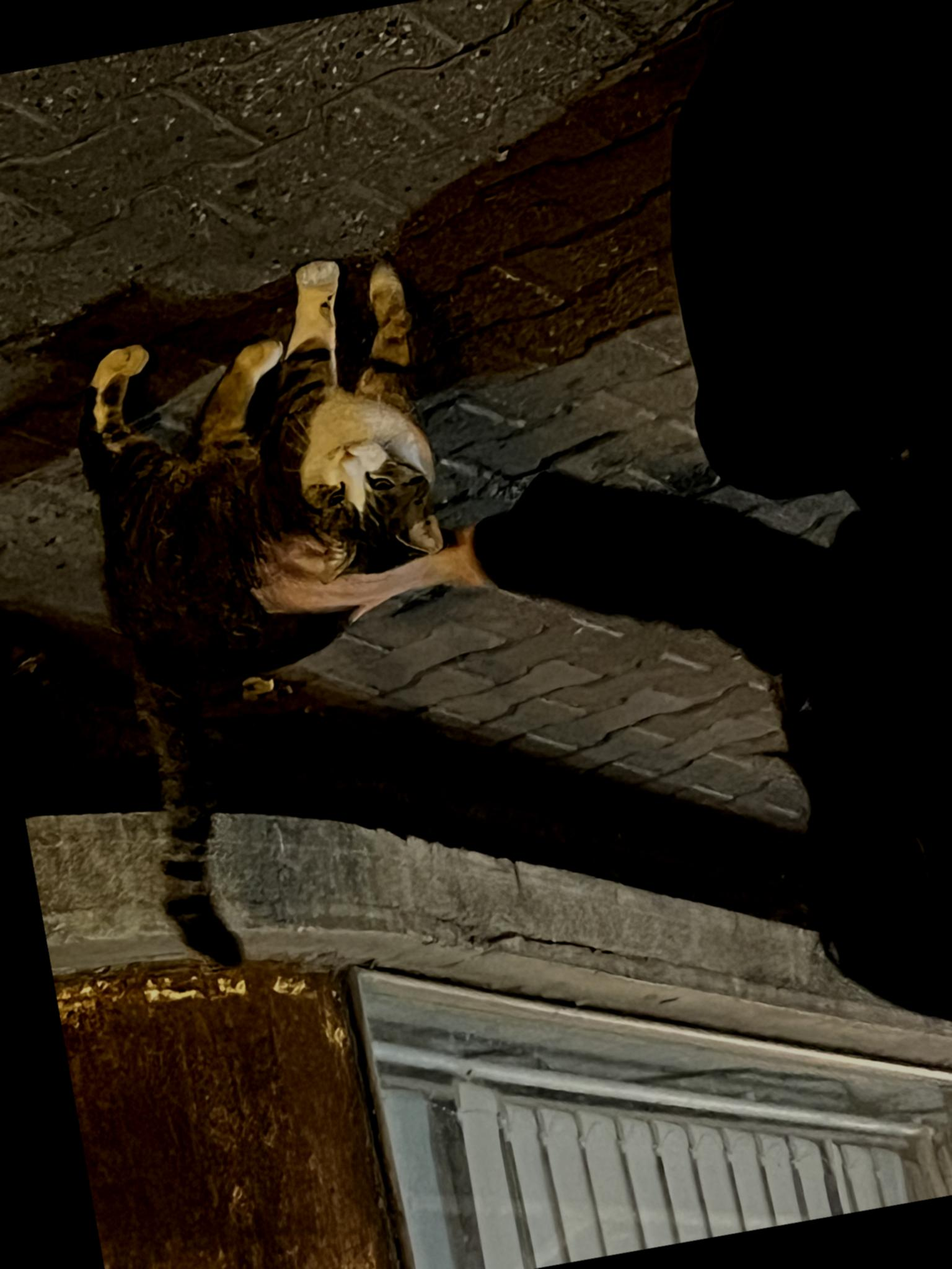macka: (55, 244, 518, 976)
